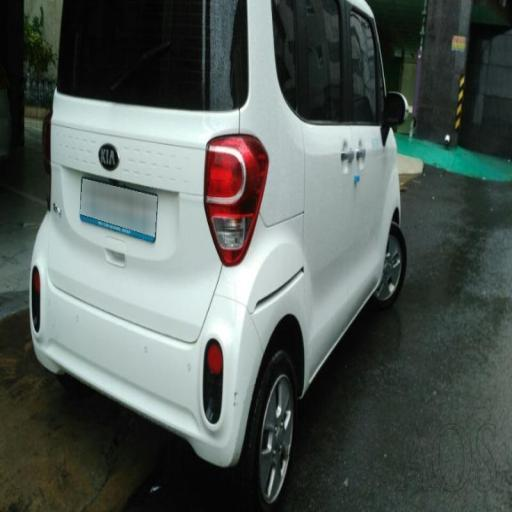scratch: (173, 245, 261, 460)
